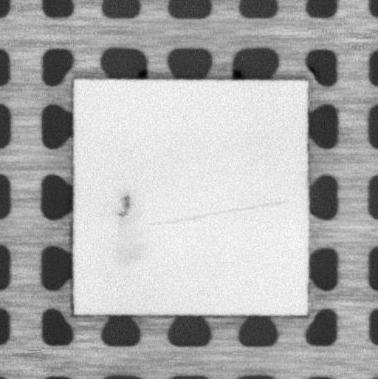DIE_CRACK: (144, 198, 286, 226)
